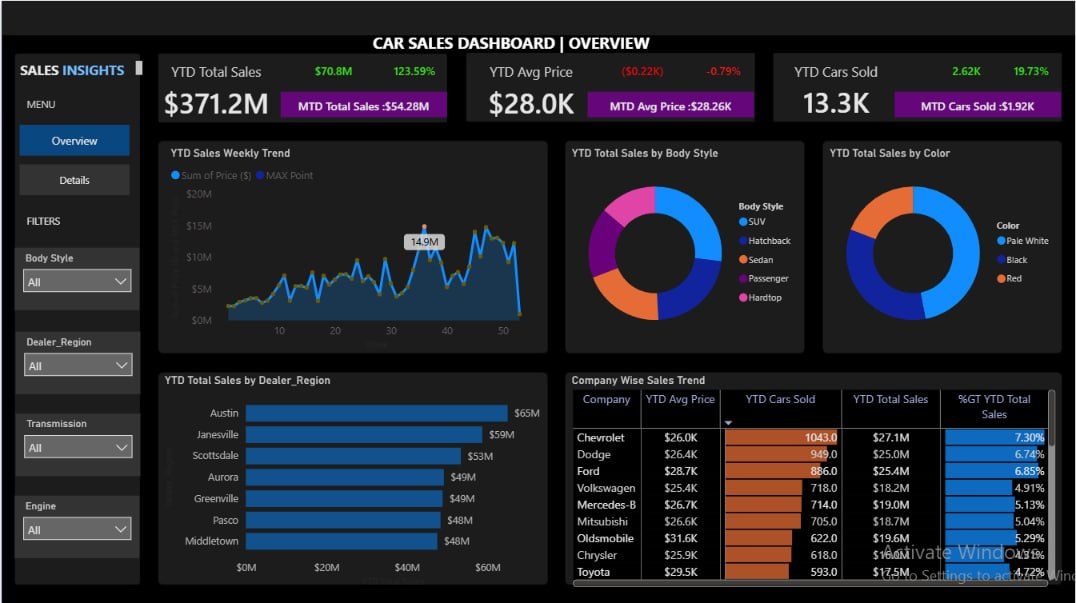

The page's visual inventory and layout, read from the dashboard file:
{"tool":"powerbi","page":{"name":"Overview","canvas":[1280,720],"ordinal":0},"visuals":[{"type":"cardVisual","fields":{"Data":["car_data.YTD Total Sales"]},"box":[132.7,24,247.1,168.3],"z":0},{"type":"cardVisual","fields":{"Data":["car_data.Sales Difference"]},"box":[339.4,49,112.5,66.3],"z":1000},{"type":"cardVisual","fields":{"Data":["car_data.YoY Sales Growth"]},"box":[436.5,49,112.5,66.3],"z":2000},{"type":"cardVisual","fields":{"Data":["car_data.MTD KPI"]},"box":[332.7,108.7,198.1,30.8],"z":3000},{"type":"cardVisual","fields":{"Data":["car_data.YTD Avg Price"]},"box":[507.7,24,247.1,168.3],"z":4000},{"type":"cardVisual","fields":{"Data":["car_data.Avg Price Diff"]},"box":[707.7,49,112.5,66.3],"z":5000},{"type":"cardVisual","fields":{"Data":["car_data.YoY Avg Price Growth"]},"box":[804.8,49,112.5,66.3],"z":6000},{"type":"cardVisual","fields":{"Data":["car_data.MTD Avg Price KPI"]},"box":[699,108.7,198.1,30.8],"z":7000},{"type":"cardVisual","fields":{"Data":["car_data.YTD Cars Sold"]},"box":[871.3,24.1,247.2,167.6],"z":8000},{"type":"cardVisual","fields":{"Data":["car_data.Cars Sold Diff"]},"box":[1094.4,49.1,113,65.7],"z":9000},{"type":"cardVisual","fields":{"Data":["car_data.YoY Car Sold Growth"]},"box":[1176.9,49.1,102.8,65.7],"z":10000},{"type":"cardVisual","fields":{"Data":["car_data.MTD Cars Sold KPI"]},"box":[1064.8,108.3,198.1,30.6],"z":11000},{"type":"areaChart","title":"YTD Sales Weekly Trend","fields":{"Category":["Calendar Table.Week"],"Y":["Sum(car_data.Price ($))","car_data.MAX Point"]},"box":[197.3,174.5,442.7,247.3],"z":12000},{"type":"donutChart","fields":{"Category":["car_data.Body Style"],"Y":["car_data.YTD Total Sales"]},"box":[674.5,174.5,280,240],"z":13000},{"type":"donutChart","fields":{"Category":["car_data.Color"],"Y":["car_data.YTD Total Sales"]},"box":[982.7,174.5,280,240],"z":14000},{"type":"clusteredBarChart","fields":{"Category":["car_data.Dealer_Region"],"Y":["car_data.YTD Total Sales"]},"box":[189.3,444,473.8,259.5],"z":14001},{"type":"tableEx","title":"Company Wise Sales Trend","fields":{"Values":["car_data.Company","car_data.YTD Avg Price","car_data.YTD Cars Sold","car_data.YTD Total Sales1","car_data.YTD Total Sales"]},"box":[675,444,586.9,259.5],"z":14002},{"type":"textbox","box":[437,32,443,42],"z":14003},{"type":"slicer","fields":{"Values":["car_data.Body Style"]},"box":[15,295,149,74],"z":14004},{"type":"slicer","fields":{"Values":["car_data.Dealer_Region"]},"box":[17,394,149,74],"z":14005},{"type":"slicer","fields":{"Values":["car_data.Transmission"]},"box":[17,492,149,74],"z":14006},{"type":"slicer","fields":{"Values":["car_data.Engine"]},"box":[16,590,149,74],"z":14007},{"type":"textbox","box":[25,248,67,32],"z":14008},{"type":"pageNavigator","box":[22,148,131,85],"z":14009},{"type":"textbox","box":[25,109,64,39],"z":14010},{"type":"textbox","box":[17,67,156,29],"z":14011}]}

Visuals, with their boxes on the page's 1280x720 design canvas (x1, y1, x2, y2). These are canvas units, not pixel positions in the 1076x603 screenshot, which may show the page scaled, cropped or inside an application window:
cardVisual - car_data.YTD Total Sales: 133/24/380/192
cardVisual - car_data.Sales Difference: 339/49/452/115
cardVisual - car_data.YoY Sales Growth: 436/49/549/115
cardVisual - car_data.MTD KPI: 333/109/531/140
cardVisual - car_data.YTD Avg Price: 508/24/755/192
cardVisual - car_data.Avg Price Diff: 708/49/820/115
cardVisual - car_data.YoY Avg Price Growth: 805/49/917/115
cardVisual - car_data.MTD Avg Price KPI: 699/109/897/140
cardVisual - car_data.YTD Cars Sold: 871/24/1118/192
cardVisual - car_data.Cars Sold Diff: 1094/49/1207/115
cardVisual - car_data.YoY Car Sold Growth: 1177/49/1280/115
cardVisual - car_data.MTD Cars Sold KPI: 1065/108/1263/139
"YTD Sales Weekly Trend" areaChart: 197/174/640/422
donutChart - car_data.Body Style x car_data.YTD Total Sales: 674/174/954/414
donutChart - car_data.Color x car_data.YTD Total Sales: 983/174/1263/414
clusteredBarChart - car_data.Dealer_Region x car_data.YTD Total Sales: 189/444/663/704
"Company Wise Sales Trend" tableEx: 675/444/1262/704
textbox: 437/32/880/74
slicer - car_data.Body Style: 15/295/164/369
slicer - car_data.Dealer_Region: 17/394/166/468
slicer - car_data.Transmission: 17/492/166/566
slicer - car_data.Engine: 16/590/165/664
textbox: 25/248/92/280
pageNavigator: 22/148/153/233
textbox: 25/109/89/148
textbox: 17/67/173/96
